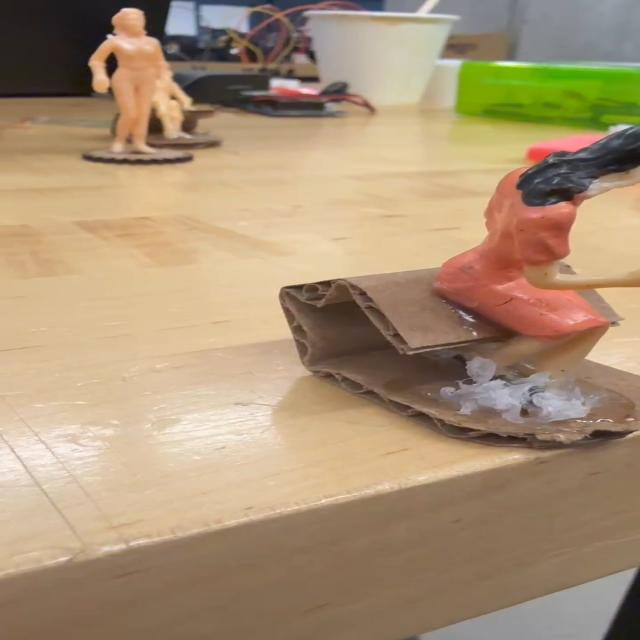Authorized: (391, 97, 640, 431)
